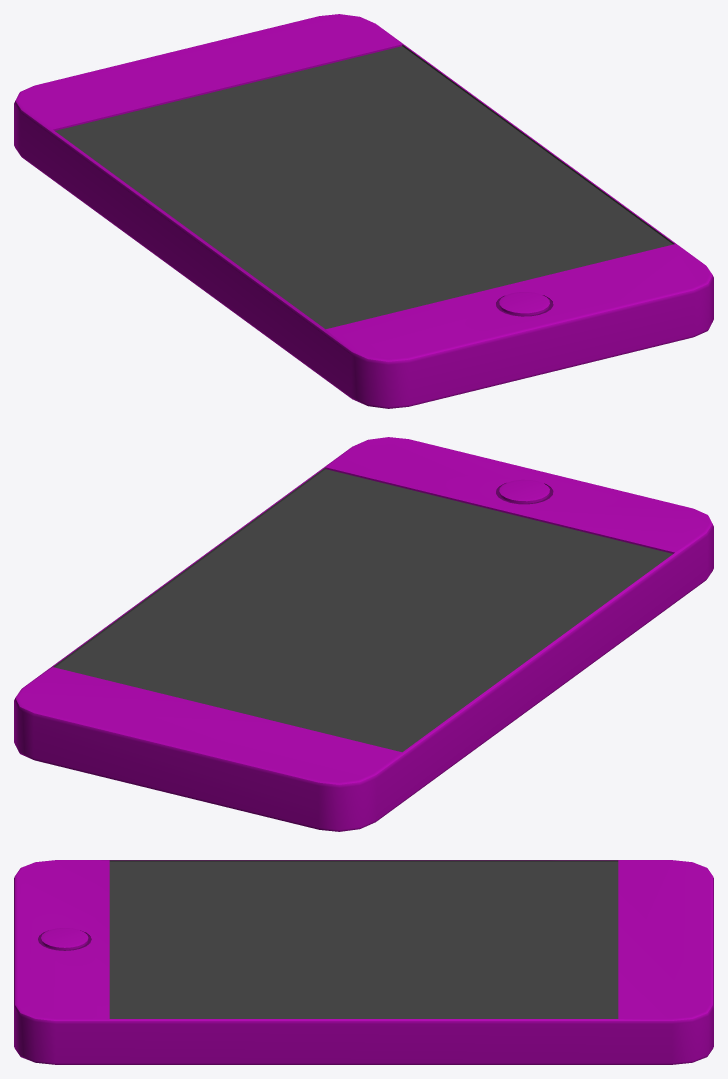
File: phone.fbx
The picture shows the model from 3 angles, top to bottom: view 1: azimuth 30°, elevation 25°; view 2: azimuth 150°, elevation 25°; view 3: azimuth 270°, elevation 25°; orthographic projection. The views are drawn at different scales.
Visible parts, largest first — view 1: pCube4, pCylinder2; view 2: pCube4, pCylinder2; view 3: pCube4, pCylinder2.
Boxes of the visible parts, x1,y1,x2,y2 form: pCube4: (14,14,713,408); pCylinder2: (499,292,549,315); pCube4: (14,437,713,831); pCylinder2: (499,479,549,503); pCube4: (14,860,713,1064); pCylinder2: (41,928,88,949).
Bounding box in the file's own units: 4.15 × 0.6069 × 7.57.
